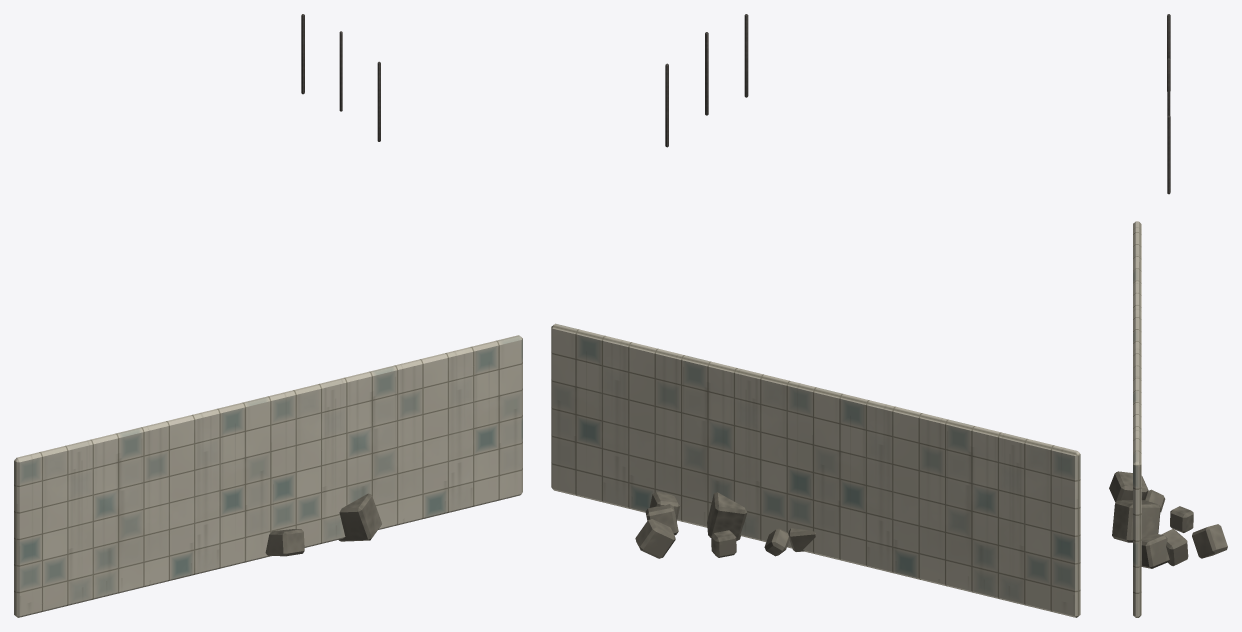
File: WK_WALL_BREACH_A_01.glb
3 views of the same model, side by side, from view 1: azimuth 30°, elevation 25°; view 2: azimuth 150°, elevation 25°; view 3: azimuth 270°, elevation 25° (orthographic). The views are drawn at different scales.
Parts seen in each view (by area): view 1: WK_WALL_BREACH_A_01; view 2: WK_WALL_BREACH_A_01; view 3: WK_WALL_BREACH_A_01.
Part boxes in pixels (box(x1,y1,x2,y2)): WK_WALL_BREACH_A_01: box(14, 14, 522, 617); WK_WALL_BREACH_A_01: box(551, 14, 1080, 617); WK_WALL_BREACH_A_01: box(1109, 14, 1227, 617).
Bounding box in the file's own units: 4 × 3.94 × 0.8284.
Materials: 3 (3 with a texture image).
